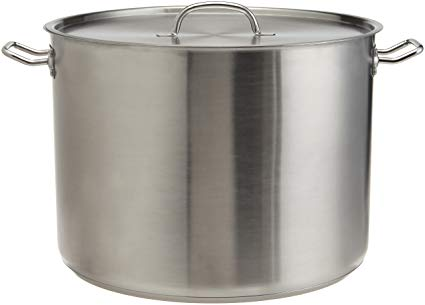Rec_Metal: (3, 8, 417, 301)
